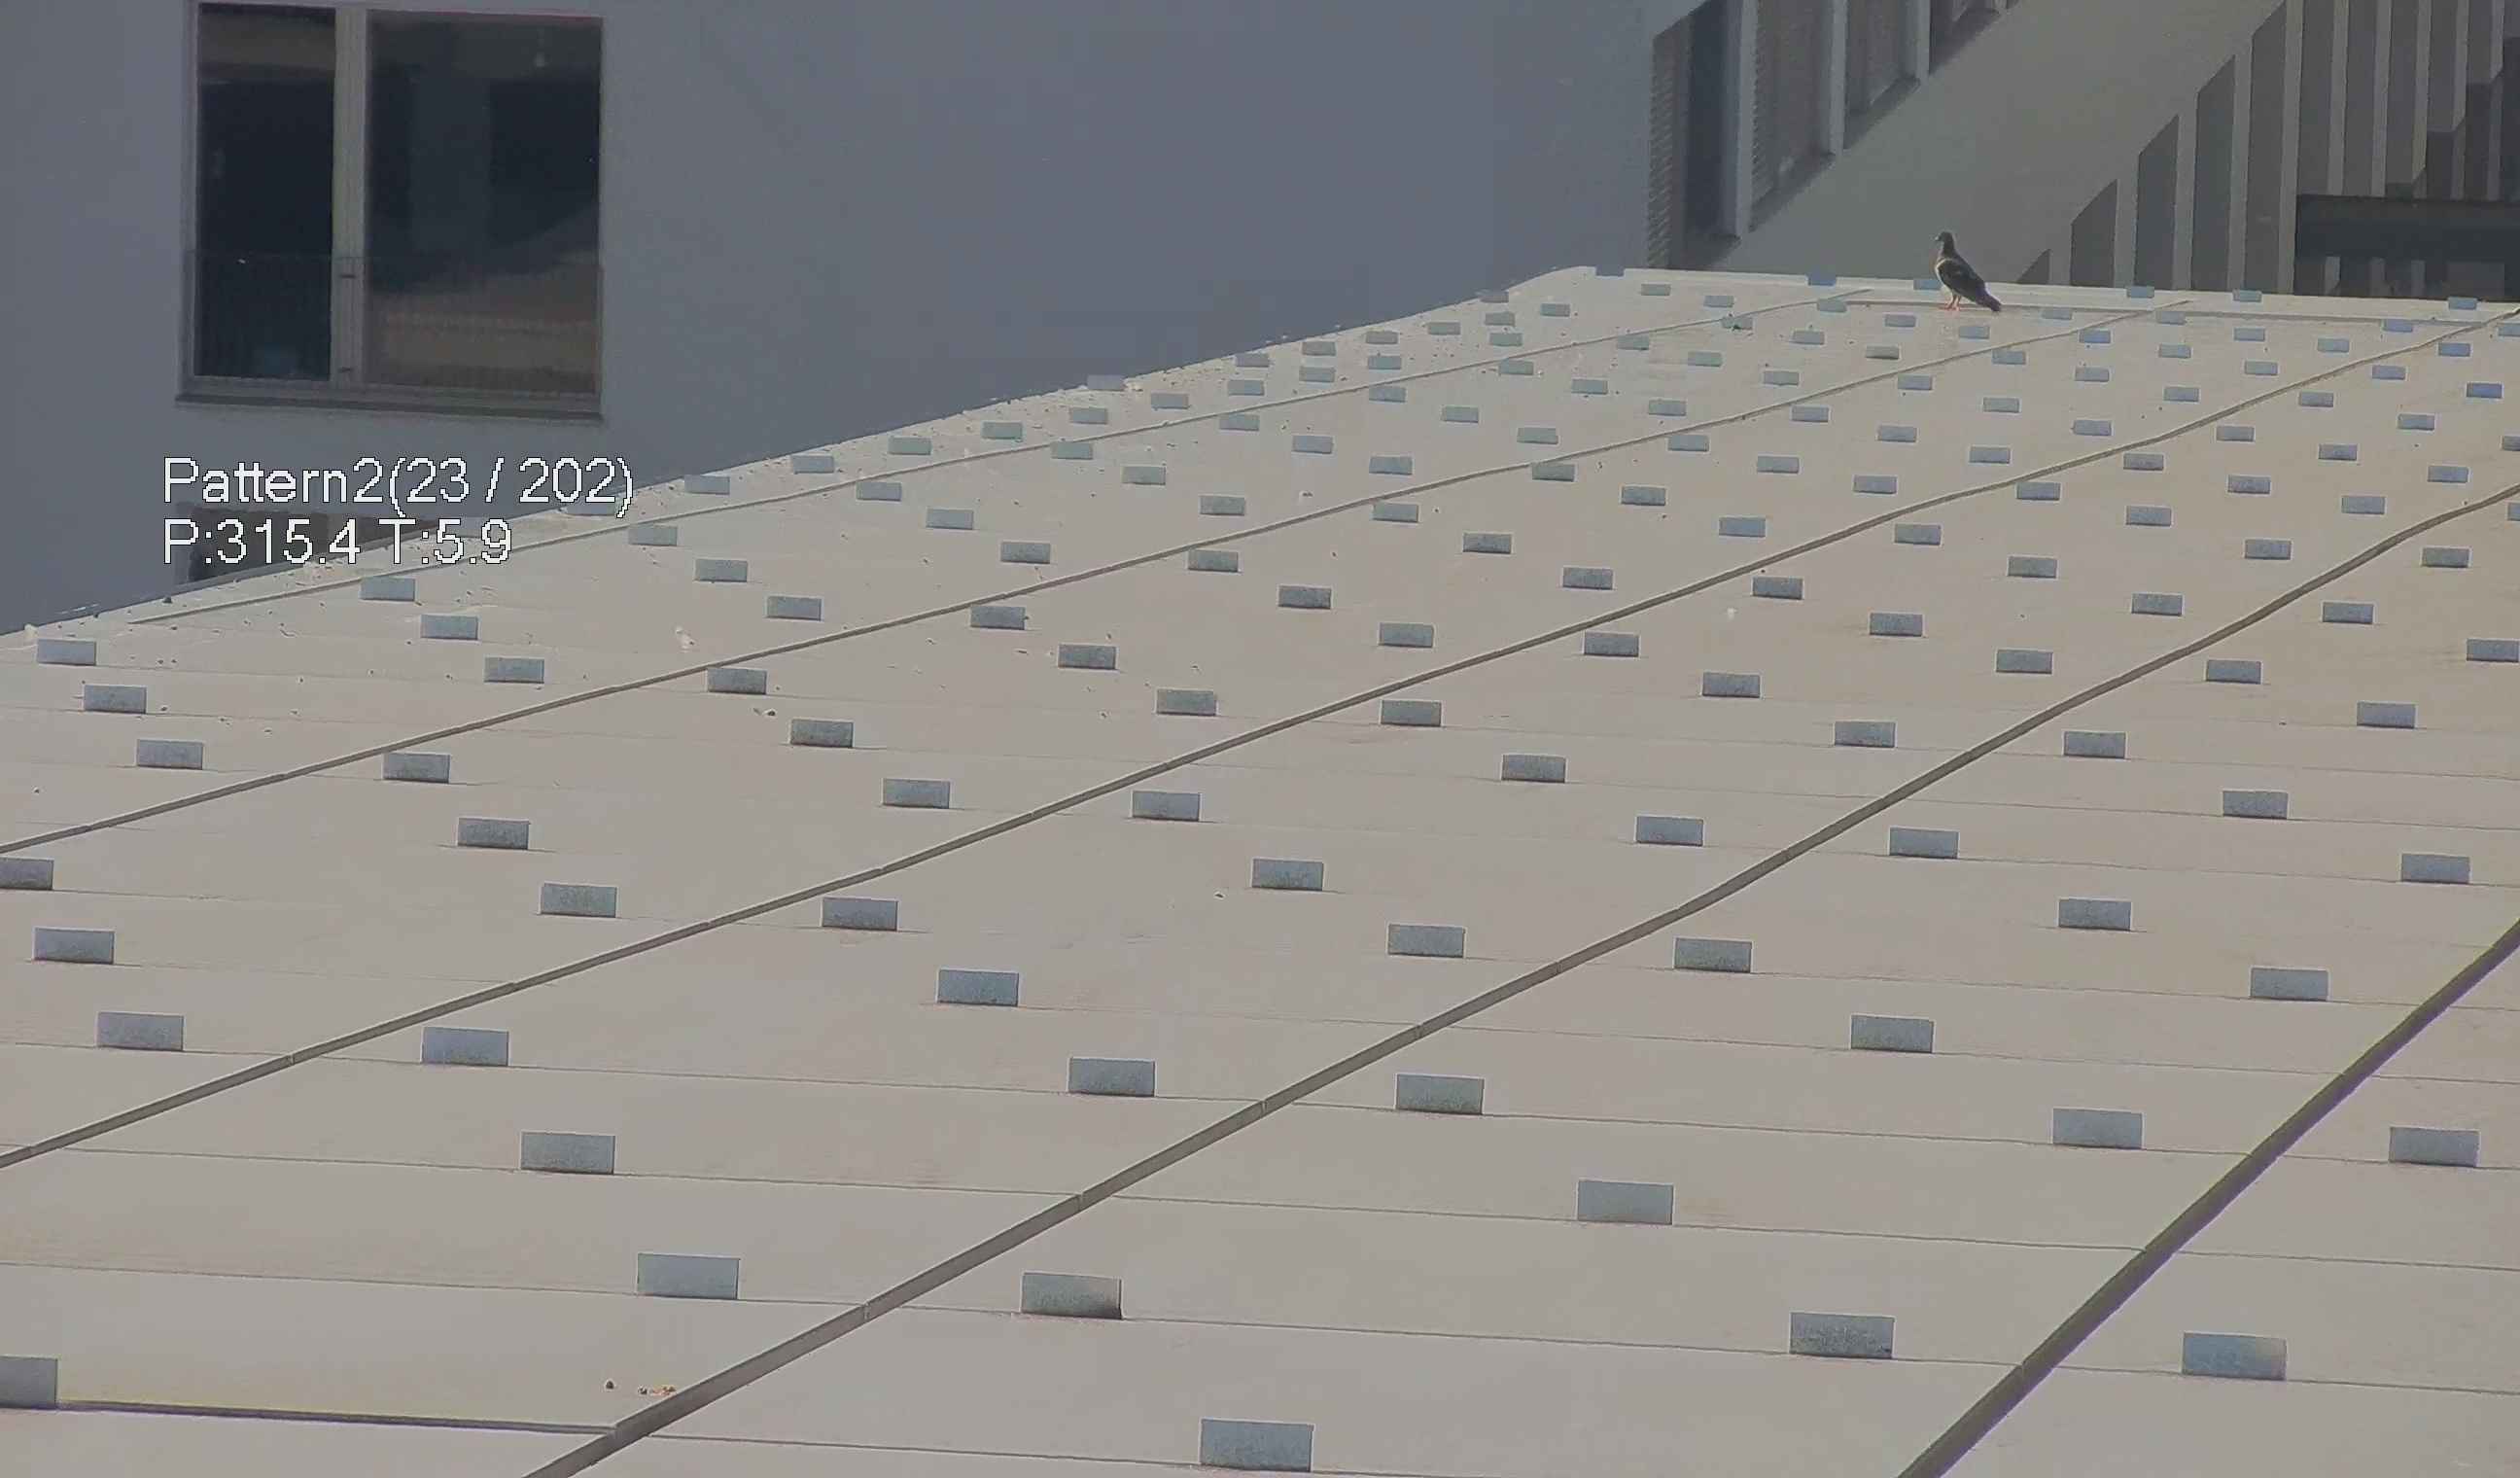Pigeon: (1927, 216, 2024, 326)
